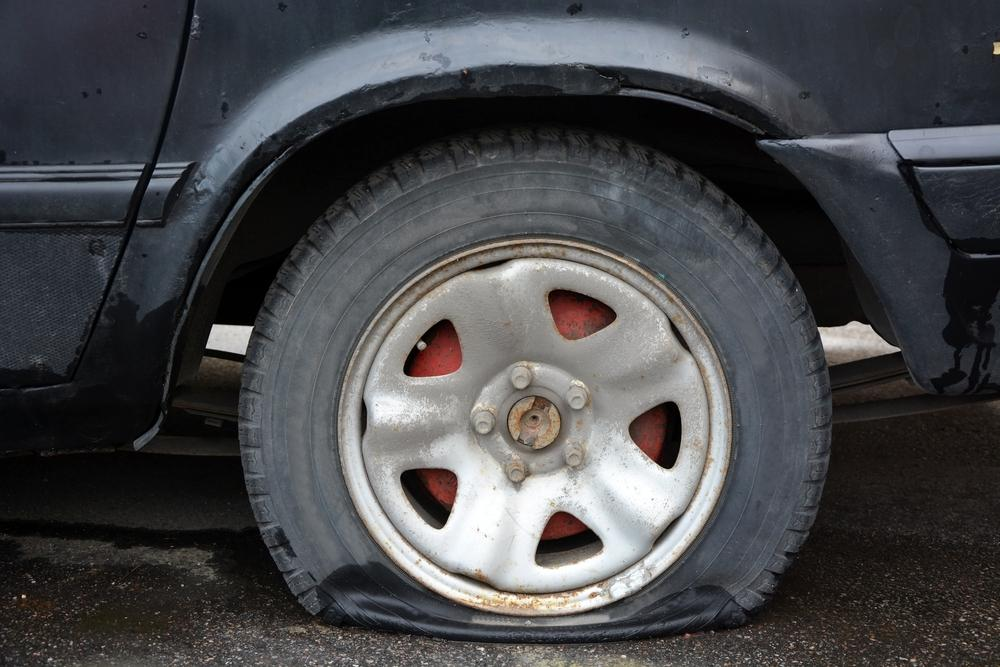tire flat: (239, 129, 832, 645)
